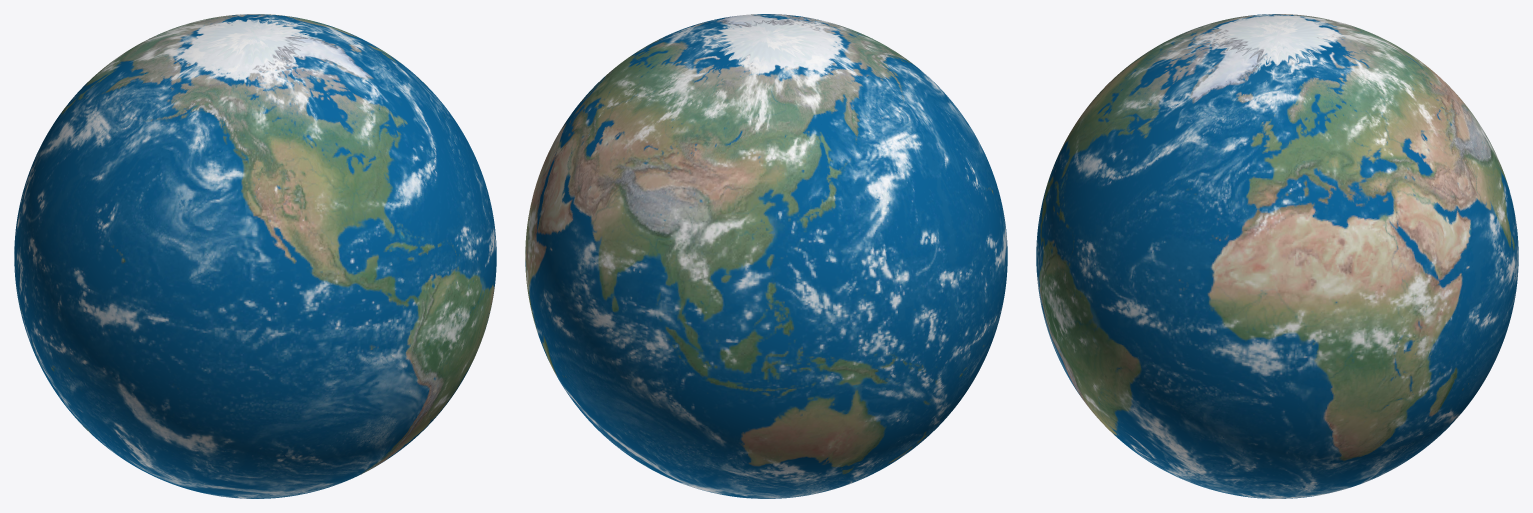
The model's file is earth.gltf.
3 renders of one model, left to right at view 1: azimuth 30°, elevation 25°; view 2: azimuth 150°, elevation 25°; view 3: azimuth 270°, elevation 25°, orthographic.
Visible parts, largest first — view 1: Sphere_2; view 2: Sphere_2; view 3: Sphere_2.
Boxes of the visible parts, x1,y1,x2,y2 form: Sphere_2: (14,14,496,498); Sphere_2: (525,14,1007,498); Sphere_2: (1036,14,1518,498).
Bounding box in the file's own units: 2.23 × 2.25 × 2.23.
Materials: 1 (1 with a texture image).
